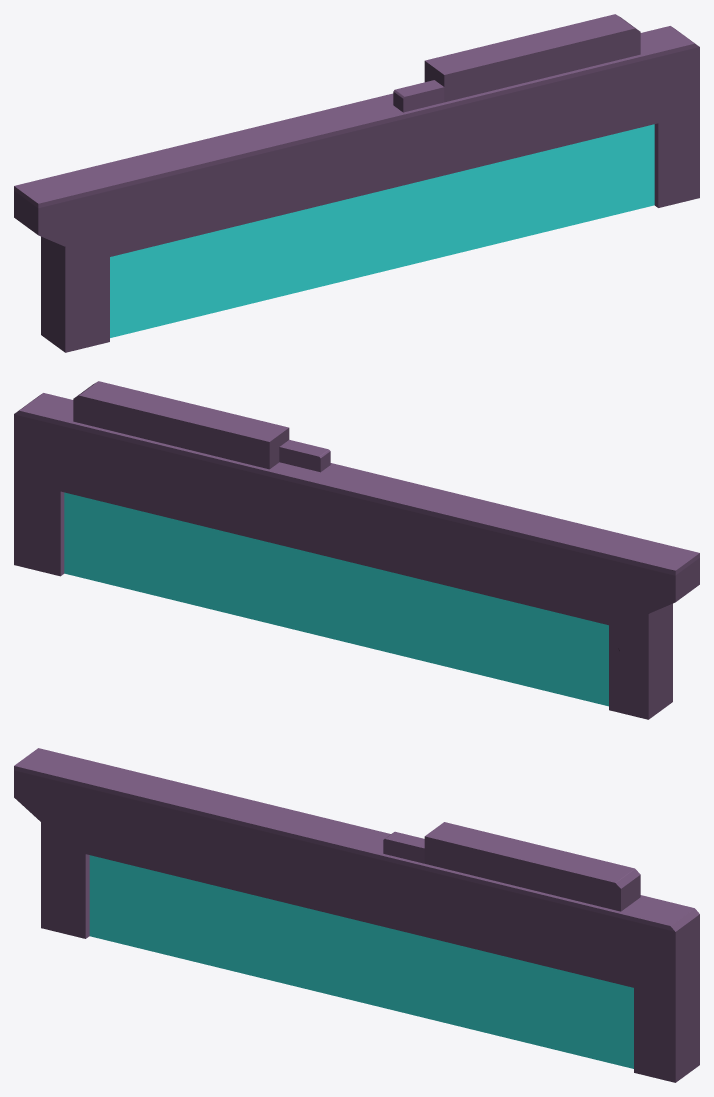
File: build_medium3.fbx
3 renders of one model, top to bottom at view 1: azimuth 30°, elevation 25°; view 2: azimuth 150°, elevation 25°; view 3: azimuth 330°, elevation 25°, orthographic.
Visible parts, largest first — view 1: build_medium3; view 2: build_medium3; view 3: build_medium3.
Part boxes in pixels (box(x1,y1,x2,y2)): build_medium3: box(14, 14, 699, 352); build_medium3: box(14, 381, 699, 719); build_medium3: box(14, 748, 699, 1082).
Size of the model in its own units: 6262 by 1656 by 400.
